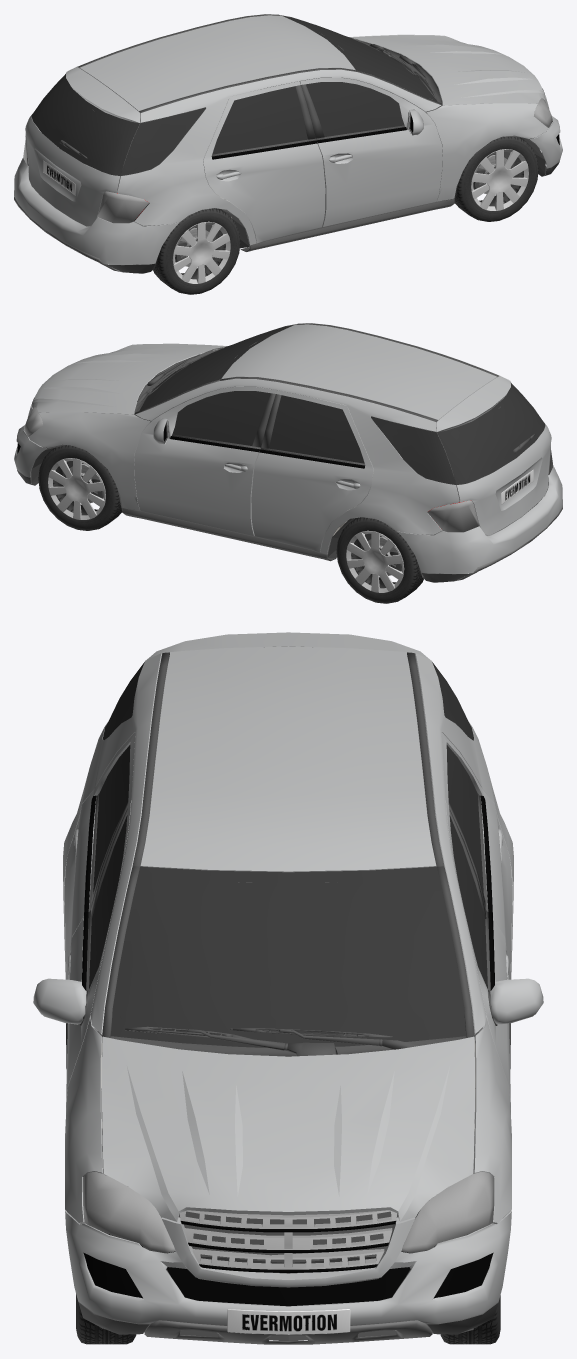
The picture shows the model from 3 angles, top to bottom: view 1: azimuth 30°, elevation 25°; view 2: azimuth 150°, elevation 25°; view 3: azimuth 270°, elevation 25°; orthographic projection. The views are drawn at different scales.
Visible parts, largest first — view 1: 轿车21; view 2: 轿车21; view 3: 轿车21.
Boxes of the visible parts, x1=… form: 轿车21: x1=14, y1=14, x2=562, y2=294; 轿车21: x1=14, y1=323, x2=562, y2=603; 轿车21: x1=33, y1=632, x2=543, y2=1344.
Size of the model in its own units: 4.85 by 1.76 by 2.18.
Materials: 21 (3 with a texture image).
